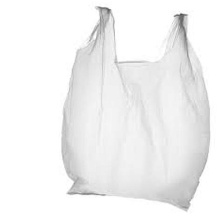plastic_bag: (55, 3, 213, 212)
